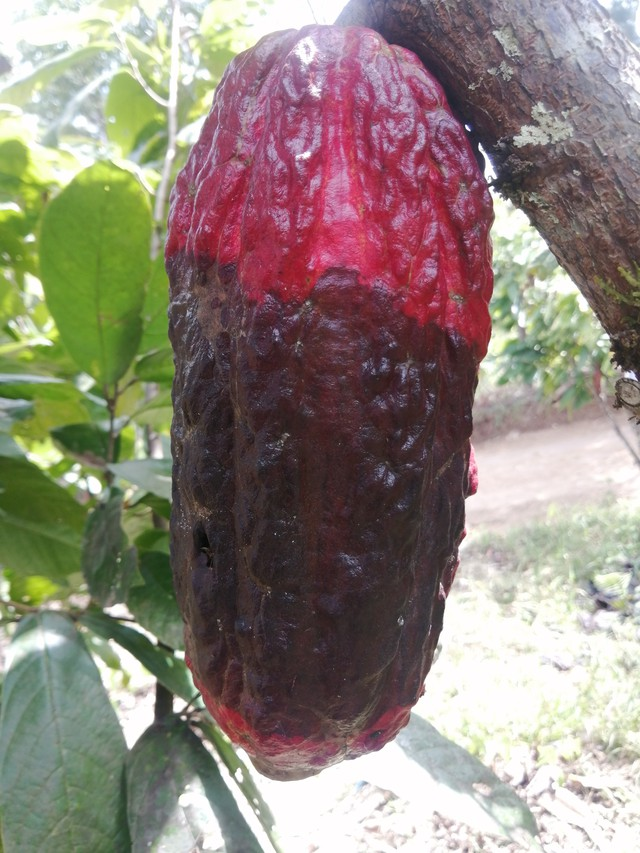carmenta foraseminis: (163, 13, 497, 782)
